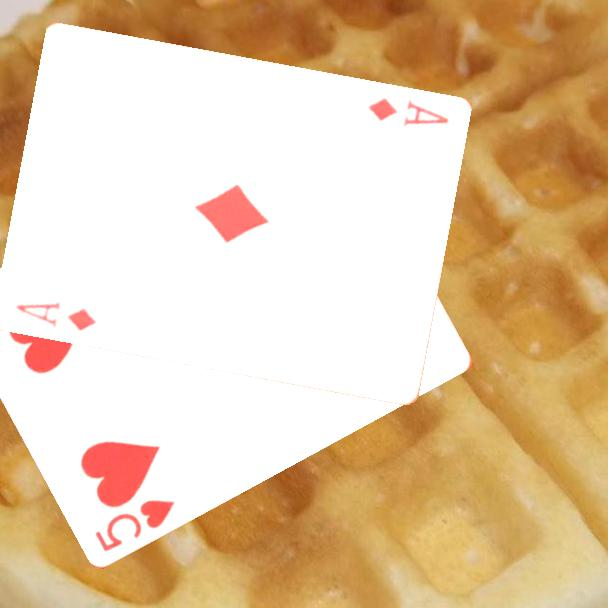d01: (13, 298, 99, 334), (365, 94, 452, 129)
h05: (92, 495, 178, 554)
